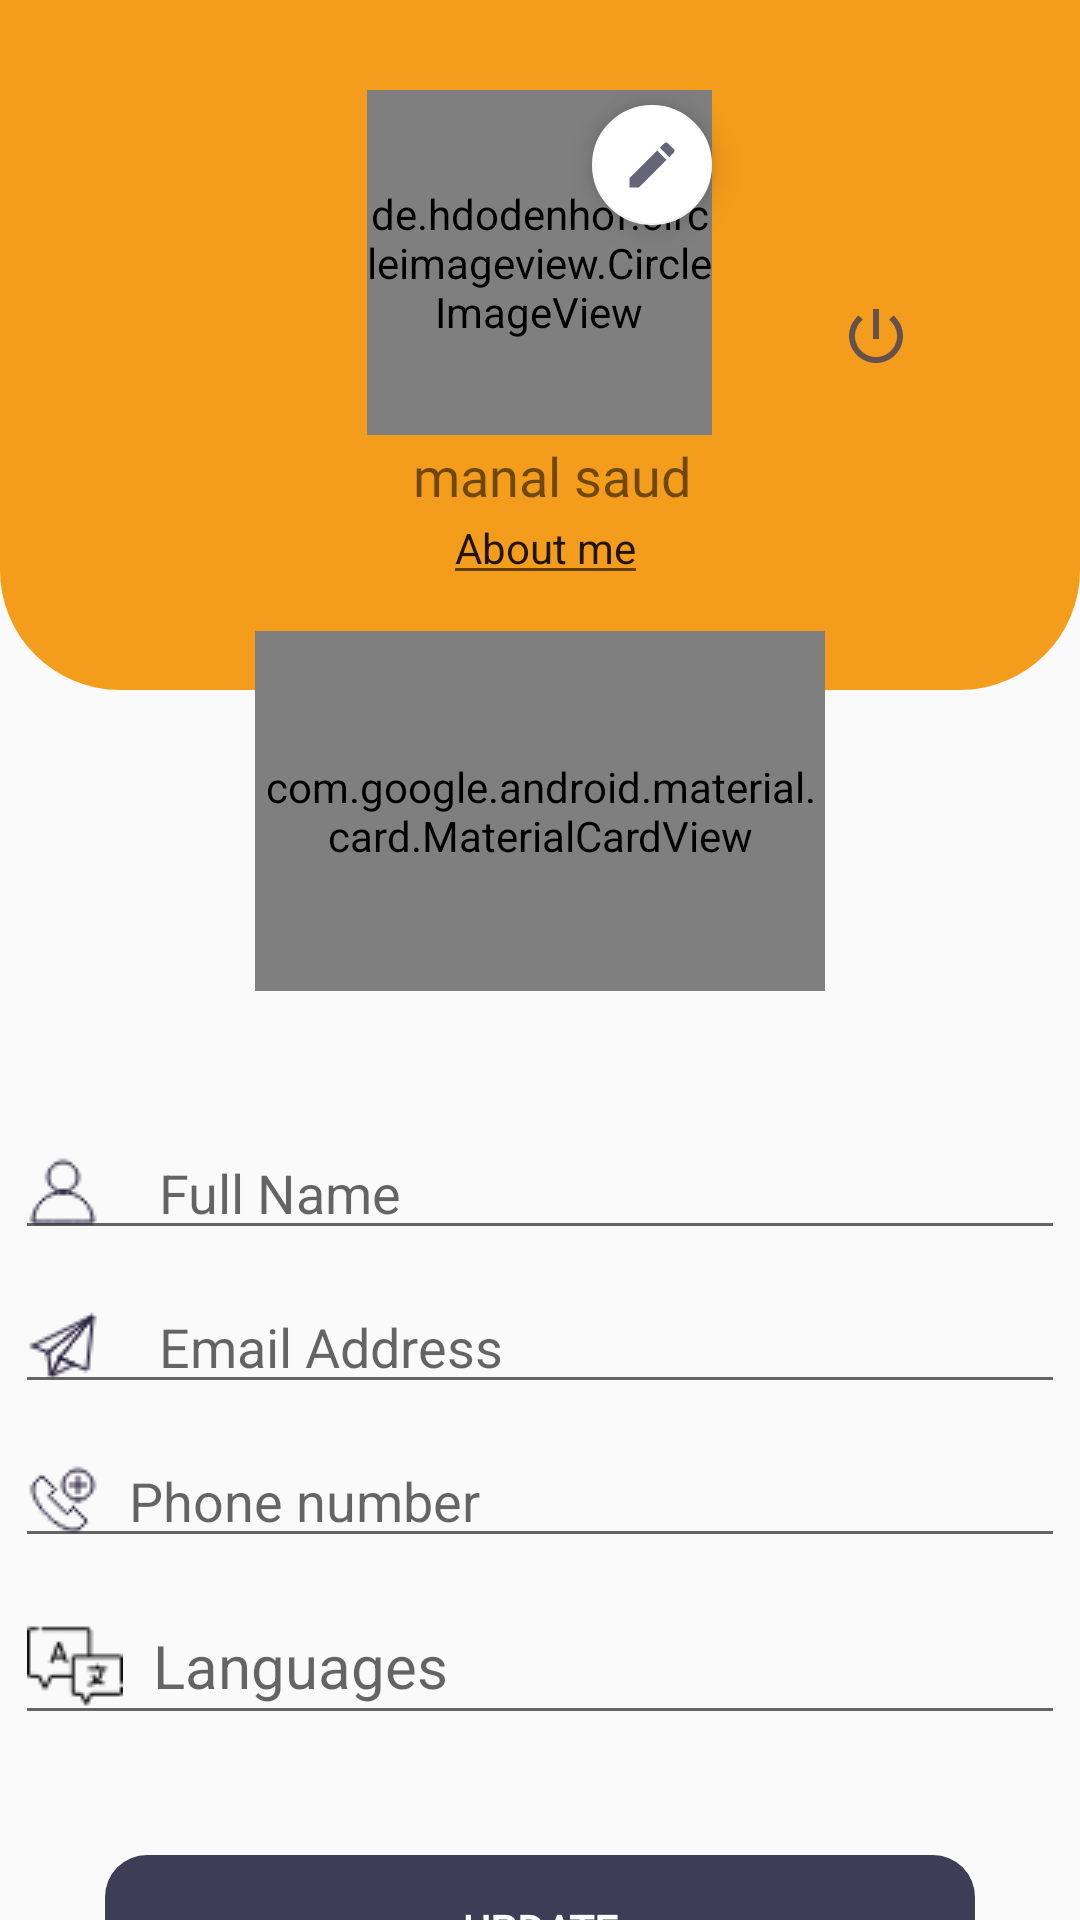

Icons on this 1080x1920 Android screen, each with its box as region(x1, y1, x2, y2):
edit: region(592, 105, 712, 225)
poweroff: region(849, 309, 903, 363)
